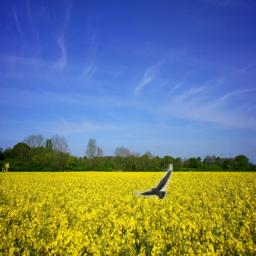Crow: (133, 164, 173, 199)
